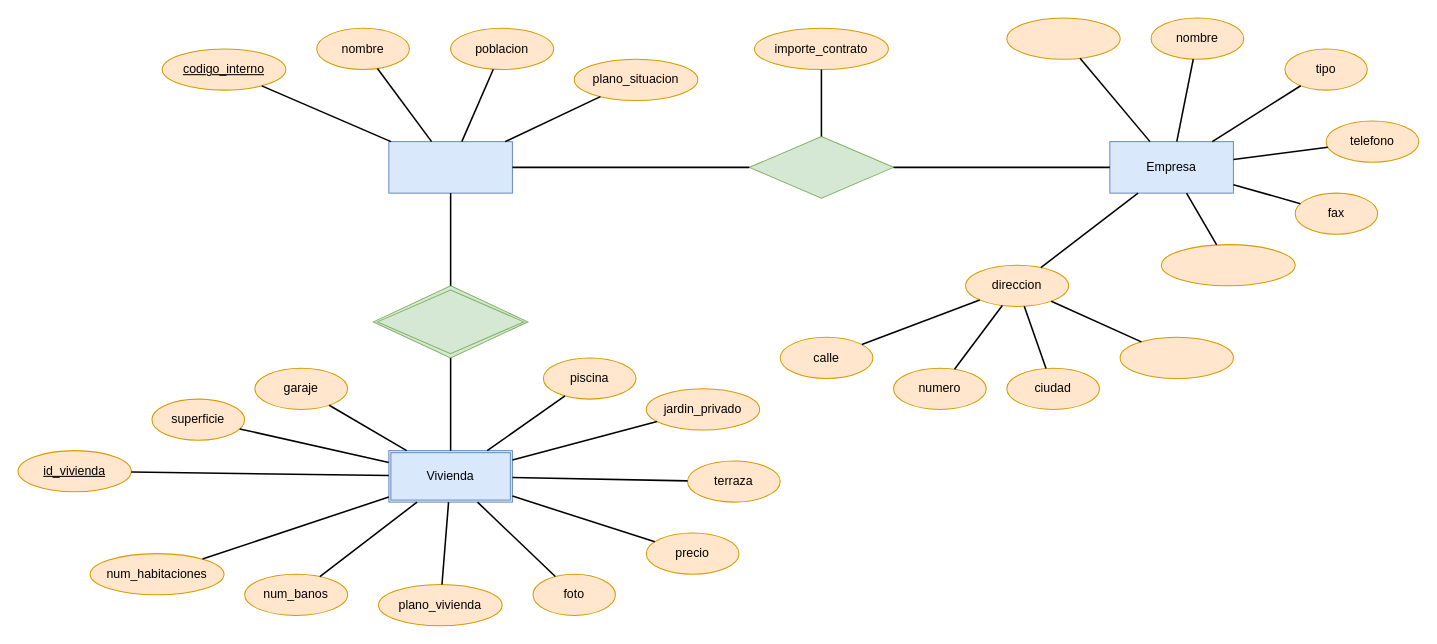
This 1437x644 diagram has some shape labels left out. Each missing label, with the centre of its shape:
codigo_postal: the point at 1176,357
contrata (M:M): the point at 821,166
correo_electronico: the point at 1227,265
formada por (1:M): the point at 450,321
id_empresa: the point at 1063,38
Promocion: the point at 450,167
